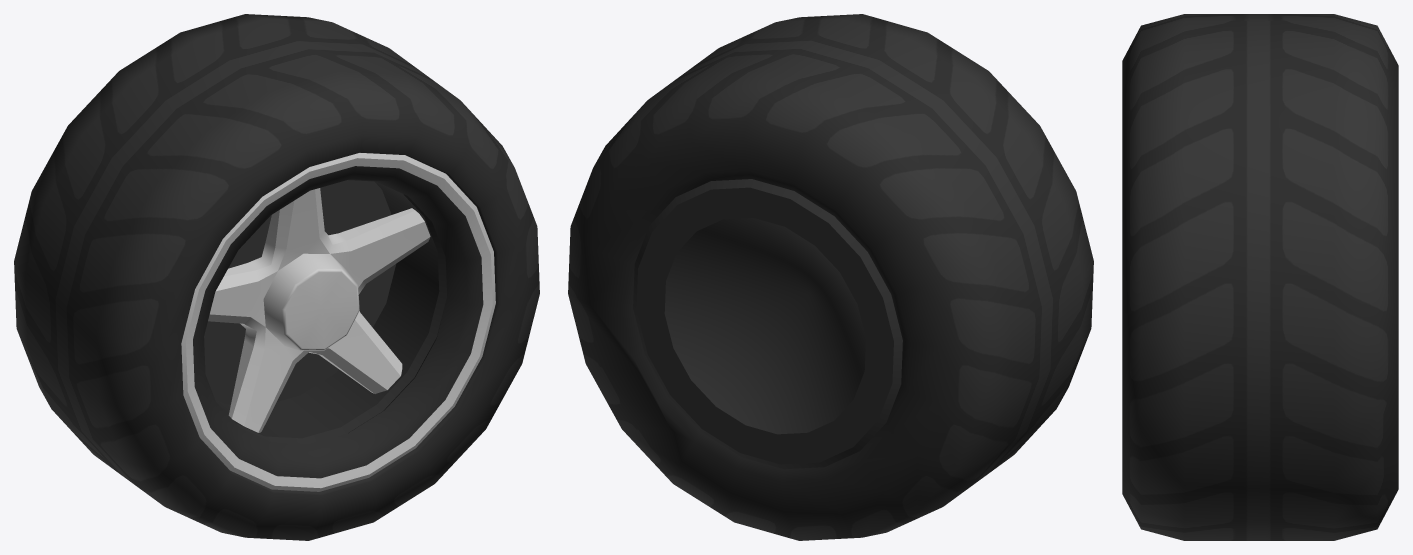
The model's file is Wheel_04.fbx.
3 views of the same model, side by side, from view 1: azimuth 30°, elevation 25°; view 2: azimuth 150°, elevation 25°; view 3: azimuth 270°, elevation 25° (orthographic). The views are drawn at different scales.
Visible parts, largest first — view 1: Wheel_04; view 2: Wheel_04; view 3: Wheel_04.
Part boxes in pixels (<box>): Wheel_04: <box>14,14,539,540</box>; Wheel_04: <box>568,14,1093,540</box>; Wheel_04: <box>1122,14,1398,540</box>.
Bounding box in the file's own units: 95 × 50 × 95.
